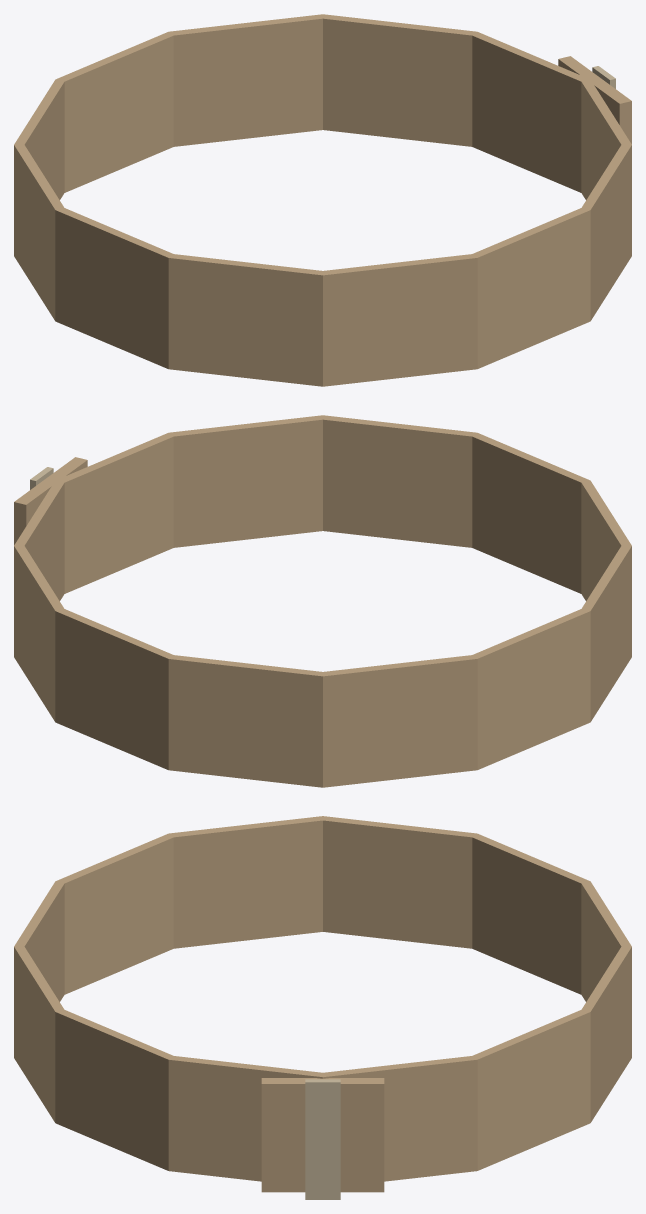
Rendered from prop-mesh-rim-blank.fbx.
3 views of the same model, one above another, from view 1: azimuth 30°, elevation 25°; view 2: azimuth 150°, elevation 25°; view 3: azimuth 270°, elevation 25° (orthographic).
Parts seen in each view (by area): view 1: prop-mesh-rim-blank; view 2: prop-mesh-rim-blank; view 3: prop-mesh-rim-blank.
Part boxes in pixels (<box>): prop-mesh-rim-blank: <box>14,14,631,386</box>; prop-mesh-rim-blank: <box>14,415,631,787</box>; prop-mesh-rim-blank: <box>14,816,631,1199</box>.
Size of the model in its own units: 36.3 by 7.4 by 35.2.
